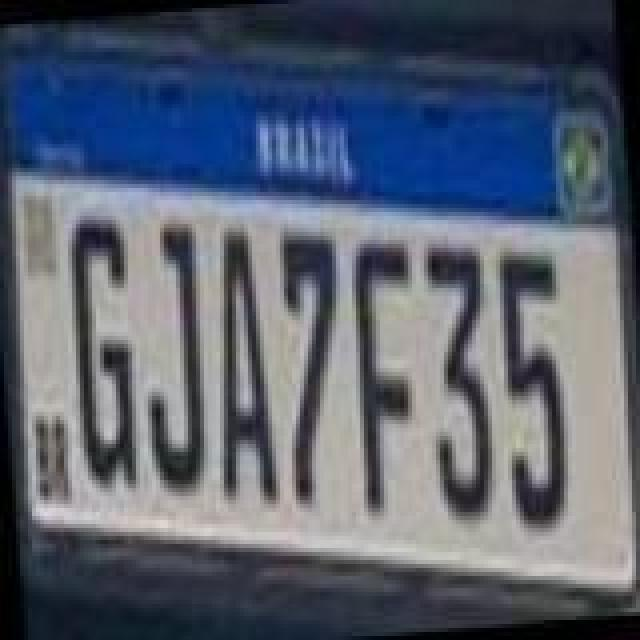3: (422, 242, 506, 526)
5: (492, 248, 580, 536)
7: (268, 230, 356, 514)
A: (198, 224, 282, 512)
F: (338, 234, 430, 518)
G: (62, 214, 146, 498)
J: (134, 222, 218, 498)
